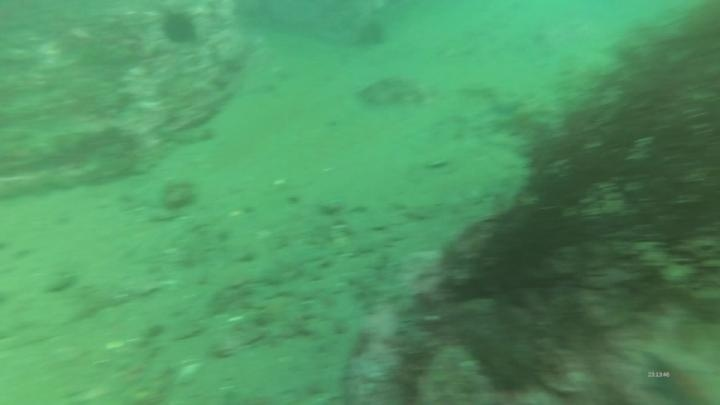echinus: (158, 8, 200, 48), (353, 17, 391, 52)
holothurian: (354, 72, 434, 111)
starfish: (636, 348, 720, 405)
